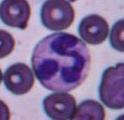N: (31, 31, 92, 91)
